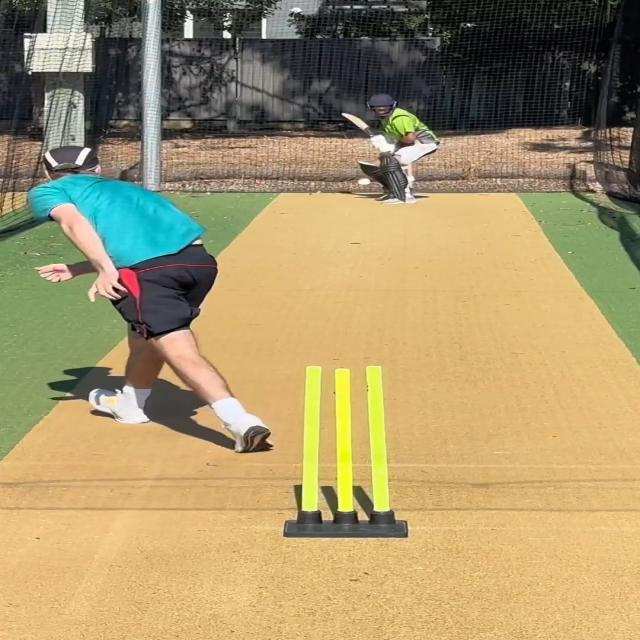ball: (356, 177, 372, 187)
stump: (280, 362, 411, 540)
